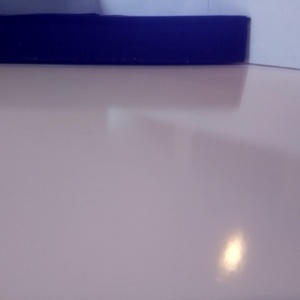zone: (81, 12, 300, 70)
